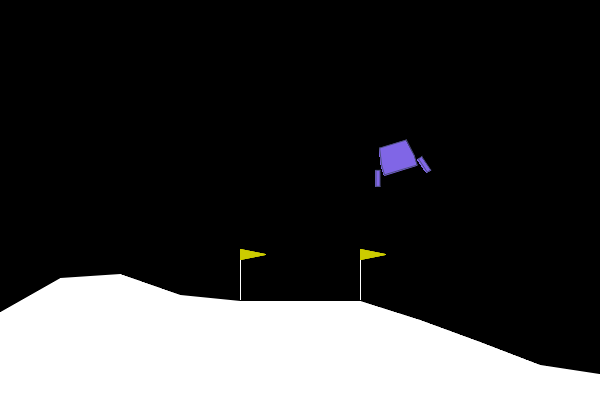lander: (363, 134, 432, 189)
